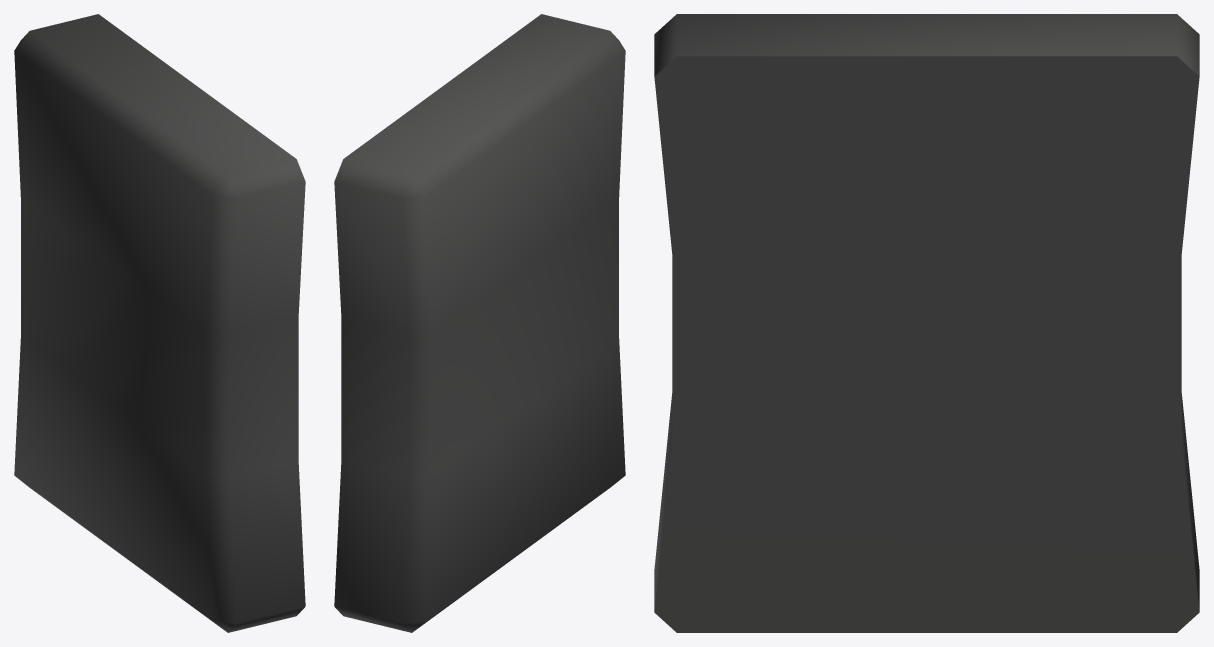
The model's file is Table_2_2.glb.
3 views of the same model, side by side, from view 1: azimuth 30°, elevation 25°; view 2: azimuth 150°, elevation 25°; view 3: azimuth 270°, elevation 25° (orthographic). The views are drawn at different scales.
Parts seen in each view (by area): view 1: Table_2_2; view 2: Table_2_2; view 3: Table_2_2.
Part boxes in pixels (bbox=[...]): Table_2_2: bbox=[14, 14, 305, 632]; Table_2_2: bbox=[334, 14, 625, 632]; Table_2_2: bbox=[654, 14, 1199, 632].
Size of the model in its own units: 0.0894 by 0.4635 by 0.3972.
1 material, 1 textured.
